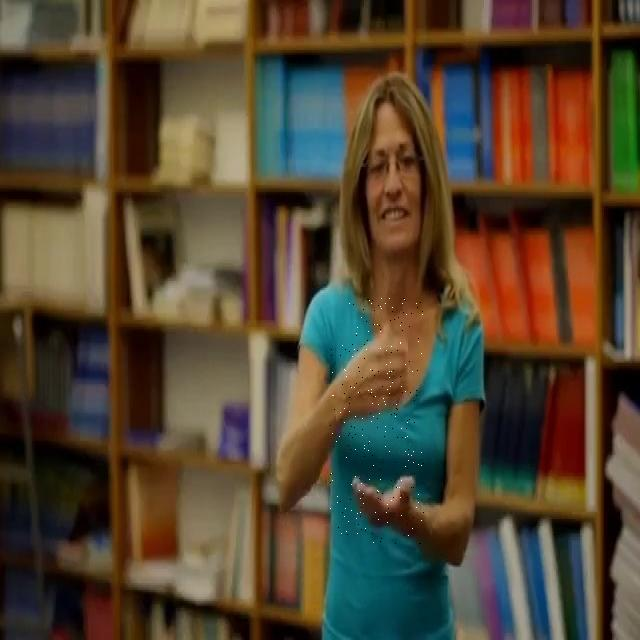cup: (330, 298, 424, 544)
